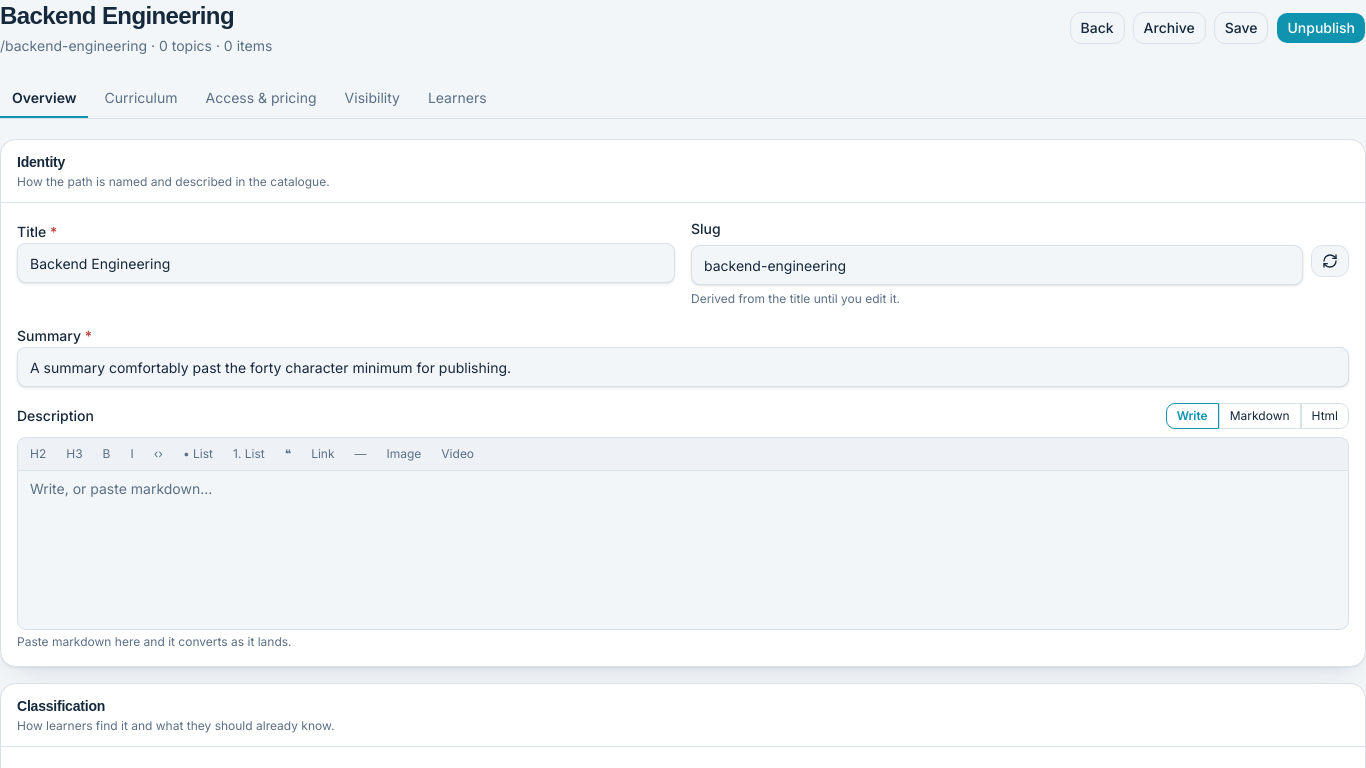
Test case: PathDetailClient — Author field gating › renders no Author control for an instructor
The width and height of the screenshot is (1366, 768).
Click the tab "Visibility".
click(372, 99)  # box [333, 80, 412, 118]
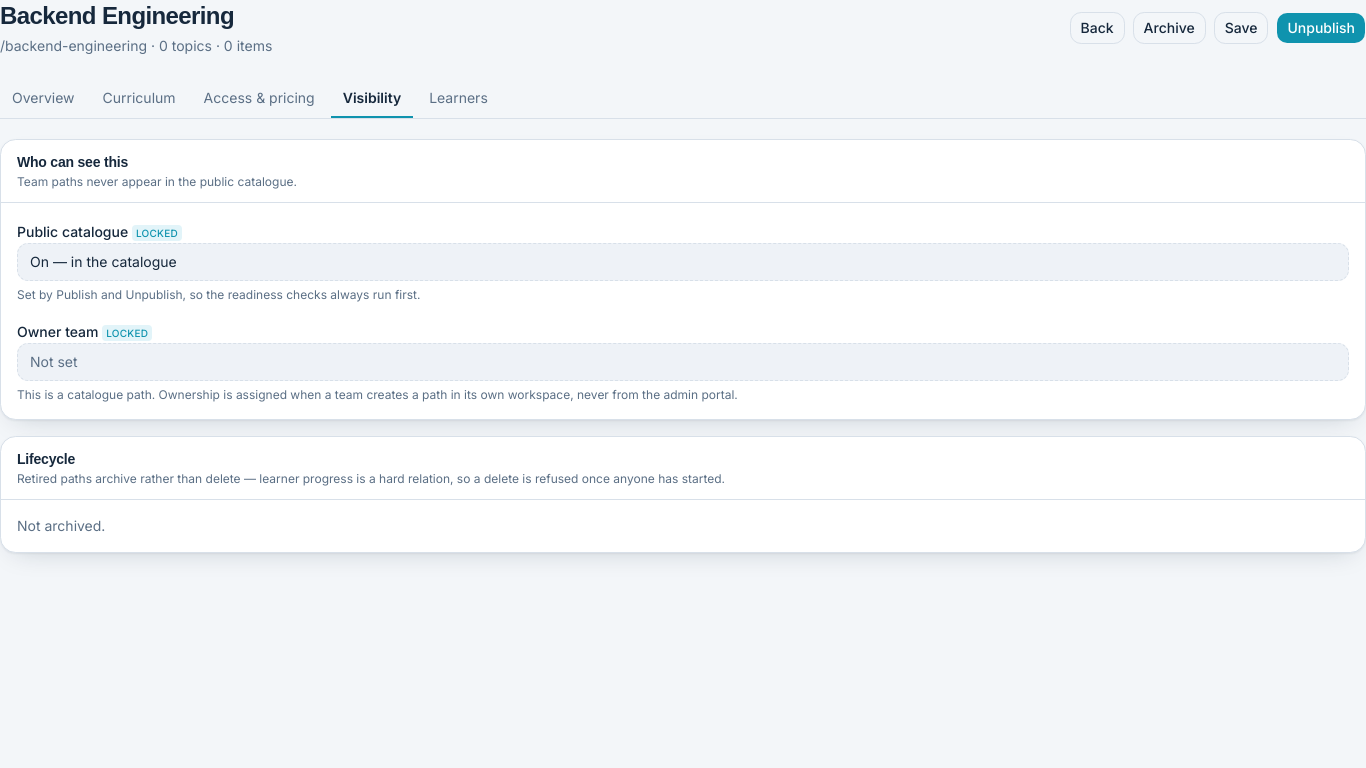
Now the heading "Who can see this" is shown, box [17, 154, 128, 170]
